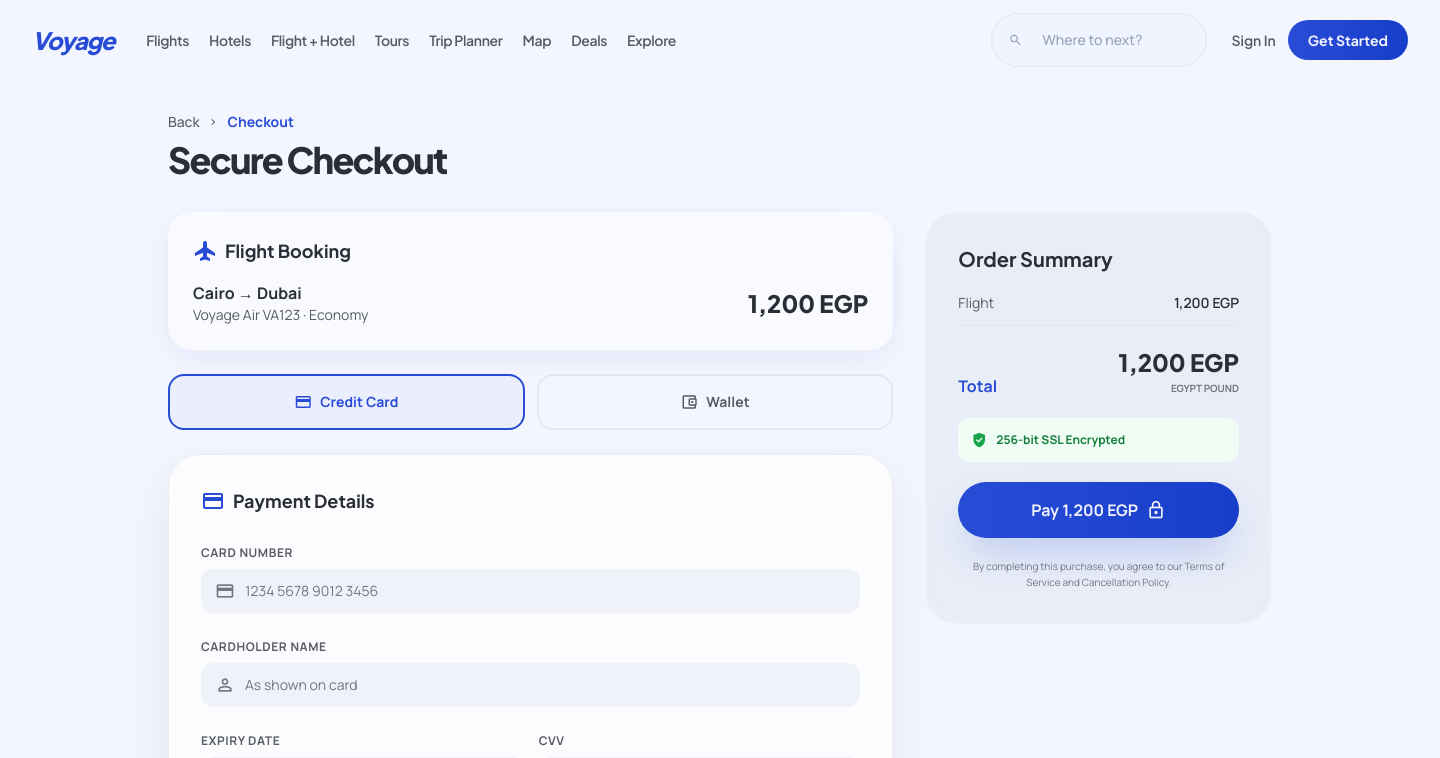
CheckoutPage › loads and displays wallet balance when wallet payment is selected
Click the button "Wallet" at (715,402), box 537,374 -> 893,430
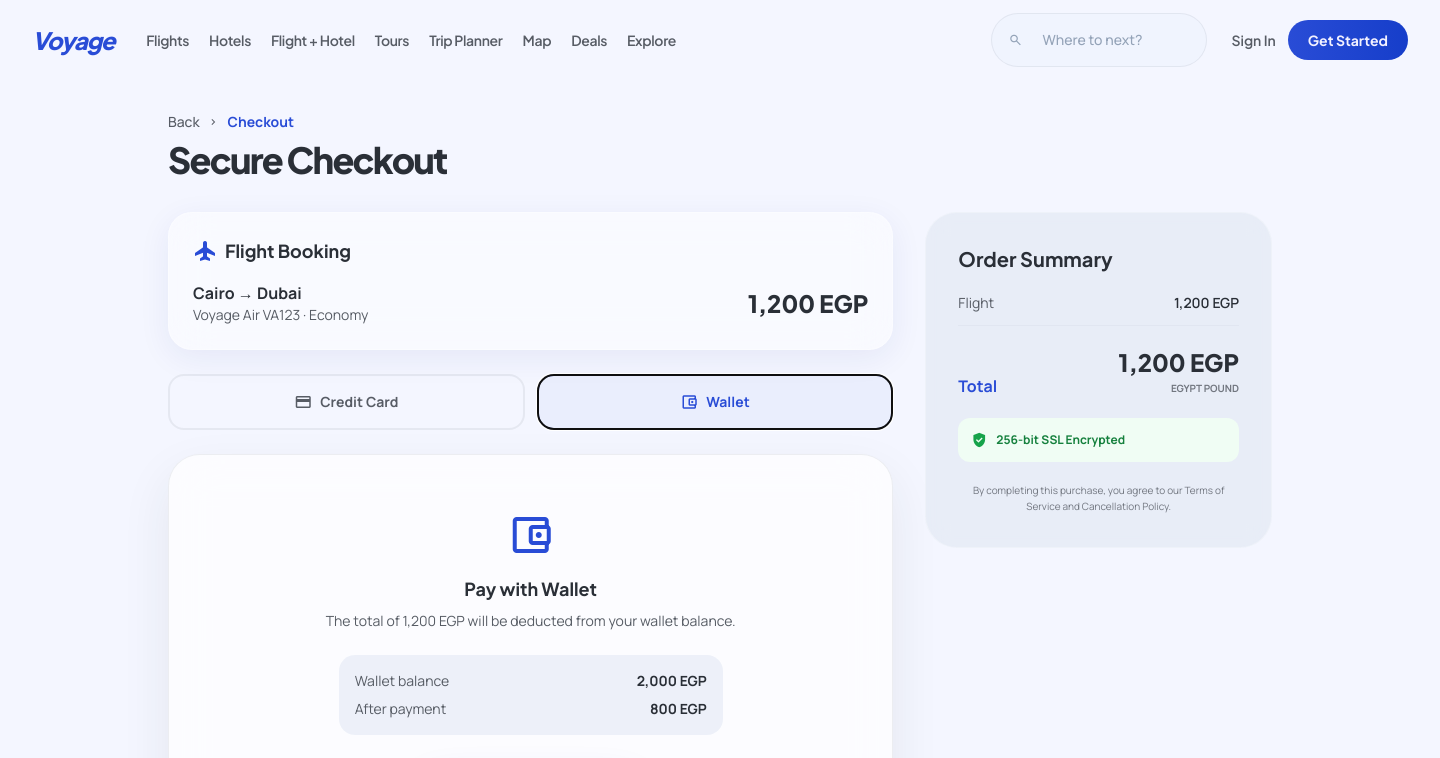
Expected: the text "Wallet balance" is shown, 355,671 -> 449,691
Expected: the text "After payment" is shown, 355,699 -> 446,719
Expected: the text "2,000 EGP" is shown, 637,671 -> 707,691
